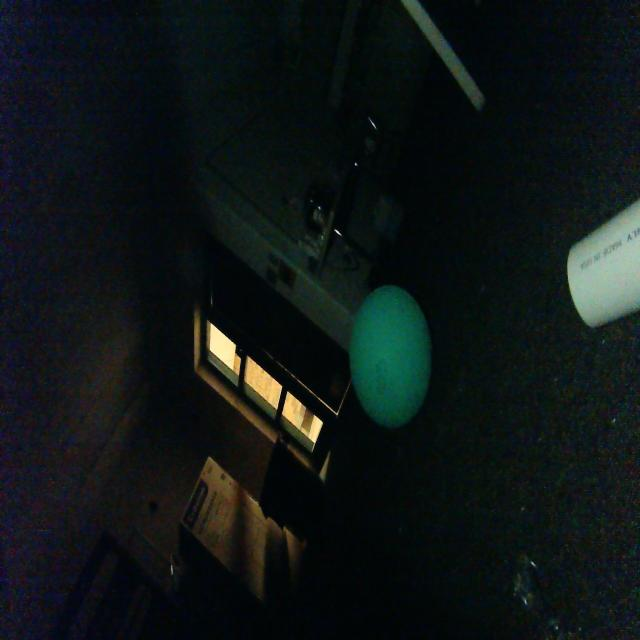algae: (346, 277, 436, 434)
coral: (563, 197, 640, 336)
